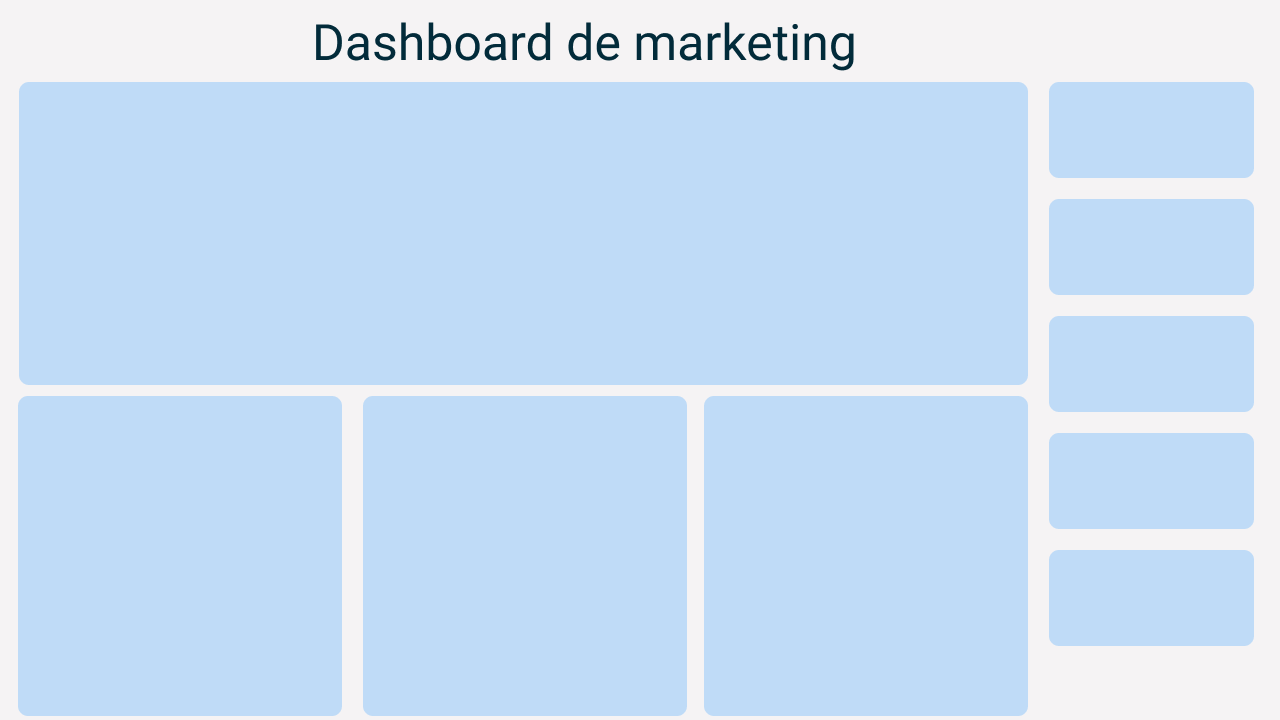

The page's visual inventory and layout, read from the dashboard file:
{"tool":"powerbi","page":{"name":"Página 2","canvas":[1280,720],"ordinal":0},"visuals":[{"type":"card","fields":{"Values":["_Medidas - Dispositivo.Taxa de Conversão"]},"box":[1051.9,429.9,198.2,94.3],"z":0},{"type":"card","fields":{"Values":["_Medidas - Dispositivo.Total Compras"]},"box":[1051.9,311.6,198.2,94.3],"z":1000},{"type":"card","fields":{"Values":["_Medidas - Dispositivo.Total Convertido"]},"box":[1051.9,197,198.2,94.3],"z":2000},{"type":"card","fields":{"Values":["_Medidas - Dispositivo.Total Investido"]},"box":[1051.9,80,198.2,94.3],"z":3000},{"type":"card","fields":{"Values":["_Medidas - Dispositivo.Custo por Clique"]},"box":[1051.9,545.7,198.2,94.3],"z":4000},{"type":"funnel","title":"Jornada de compra por plataforma","fields":{"Y":["_Medidas - Dispositivo.Total Vizualizações - Dispositivo","_Medidas - Dispositivo.Total Carrinho - Dispositivo","_Medidas - Dispositivo.Total Compras - Dispositivo"]},"box":[364.2,396.4,326,315.2],"z":5000},{"type":"clusteredColumnChart","title":"Ticket medio por plataforma","fields":{"Y":["_Medidas - Dispositivo.Ticket Medio"],"Category":["Plataforma do dispositivo.Plataforma do dispositivo - Tratado"]},"box":[19.1,396.4,326,315.2],"z":6000},{"type":"clusteredColumnChart","title":"ROAS","fields":{"Y":["_Medidas - Dispositivo.ROAS"],"Category":["Idade.Idade"],"Series":["Genero.Gênero"]},"box":[703.3,396.4,322.4,315.2],"z":7000},{"type":"lineChart","title":"Total Convertido","fields":{"Y":["_Medidas - Dispositivo.Total Convertido"],"Category":["Calendario.Data Tratada"]},"box":[19.1,82.4,1006.6,300.9],"z":8000,"group":"g1"},{"type":"card","fields":{"Values":["_Medidas - Dispositivo.Ultima Atualização"]},"box":[1068.7,653.1,162.4,52.5],"z":9000},{"type":"image","box":[22.7,3.6,155.2,66.9],"z":11000},{"type":"slicer","fields":{"Values":["Idade.Idade"]},"box":[902.7,35.8,131.3,53.7],"z":11500,"group":"g1"},{"type":"group","id":"g1","title":"Grupo 1","box":[19.1,35.8,1014.9,347.5],"z":11501}]}

Visuals, with their boxes in screenshot pixels (x1, y1, x2, y2), scaled from the page's 1280x720 canvas onto the 1280x720 screenshot:
card - _Medidas - Dispositivo.Taxa de Conversão: x1=1052 y1=430 x2=1250 y2=524
card - _Medidas - Dispositivo.Total Compras: x1=1052 y1=312 x2=1250 y2=406
card - _Medidas - Dispositivo.Total Convertido: x1=1052 y1=197 x2=1250 y2=291
card - _Medidas - Dispositivo.Total Investido: x1=1052 y1=80 x2=1250 y2=174
card - _Medidas - Dispositivo.Custo por Clique: x1=1052 y1=546 x2=1250 y2=640
"Jornada de compra por plataforma" funnel: x1=364 y1=396 x2=690 y2=712
"Ticket medio por plataforma" clusteredColumnChart: x1=19 y1=396 x2=345 y2=712
"ROAS" clusteredColumnChart: x1=703 y1=396 x2=1026 y2=712
"Total Convertido" lineChart: x1=19 y1=82 x2=1026 y2=383
card - _Medidas - Dispositivo.Ultima Atualização: x1=1069 y1=653 x2=1231 y2=706
image: x1=23 y1=4 x2=178 y2=70
slicer - Idade.Idade: x1=903 y1=36 x2=1034 y2=90
"Grupo 1" group: x1=19 y1=36 x2=1034 y2=383
